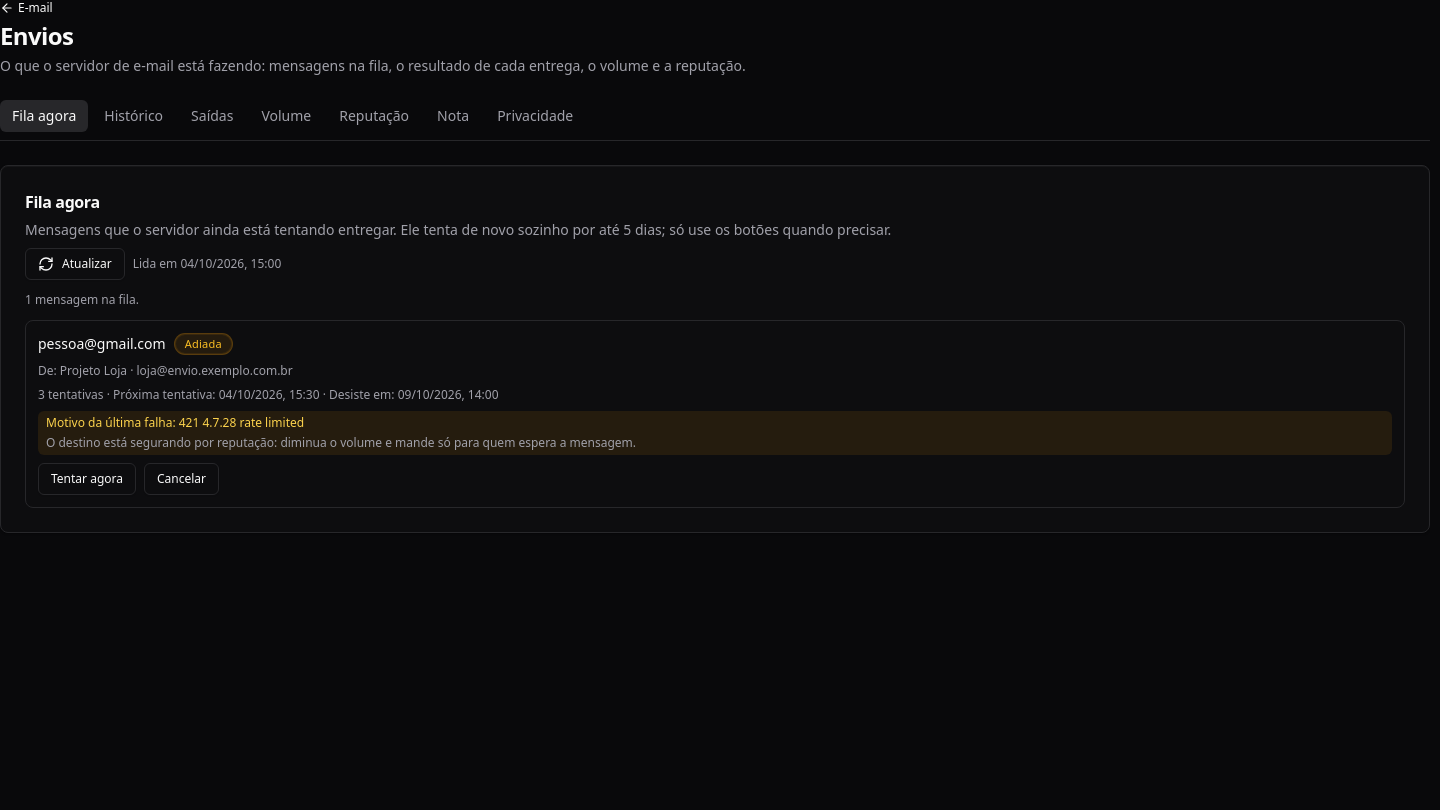
Test: Envios — volume › gráfico de 14 barras acessível, taxas com destaque e tabela
Click the tab "Volume" at (286,116), box x1=249 y1=100 x2=323 y2=132
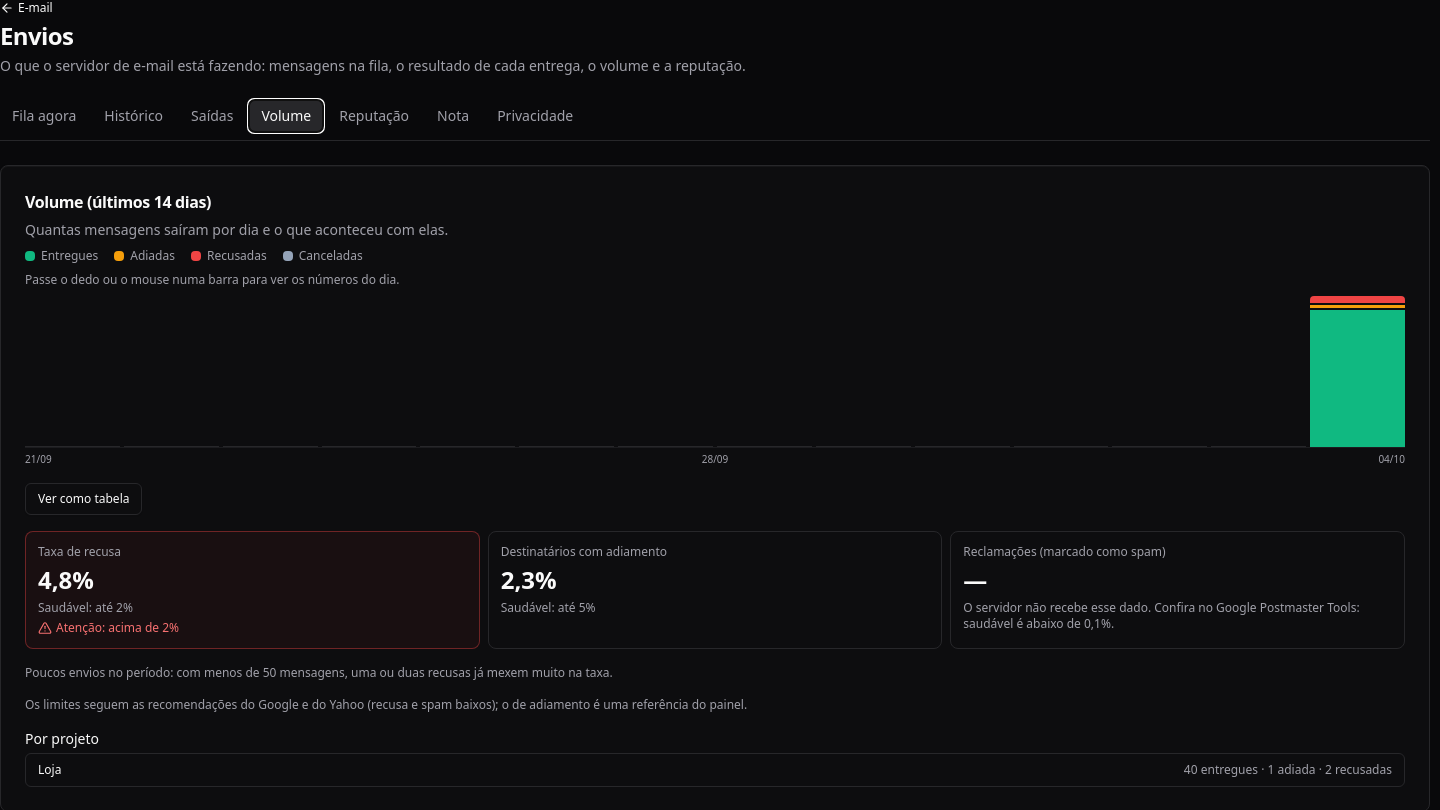
Expected: the number of elements with test id "volume-bar" is 14
Expected: the element named "04/10: 40 entregues, 2 recusadas, 1 adiada" is shown, x1=1310 y1=296 x2=1405 y2=447
Expected: the element with test id "rate-bounce" shows "4,8%", x1=38 y1=563 x2=94 y2=596
Click the button "Ver como tabela" at (84,499), box x1=25 y1=483 x2=142 y2=515
(page scrolled)
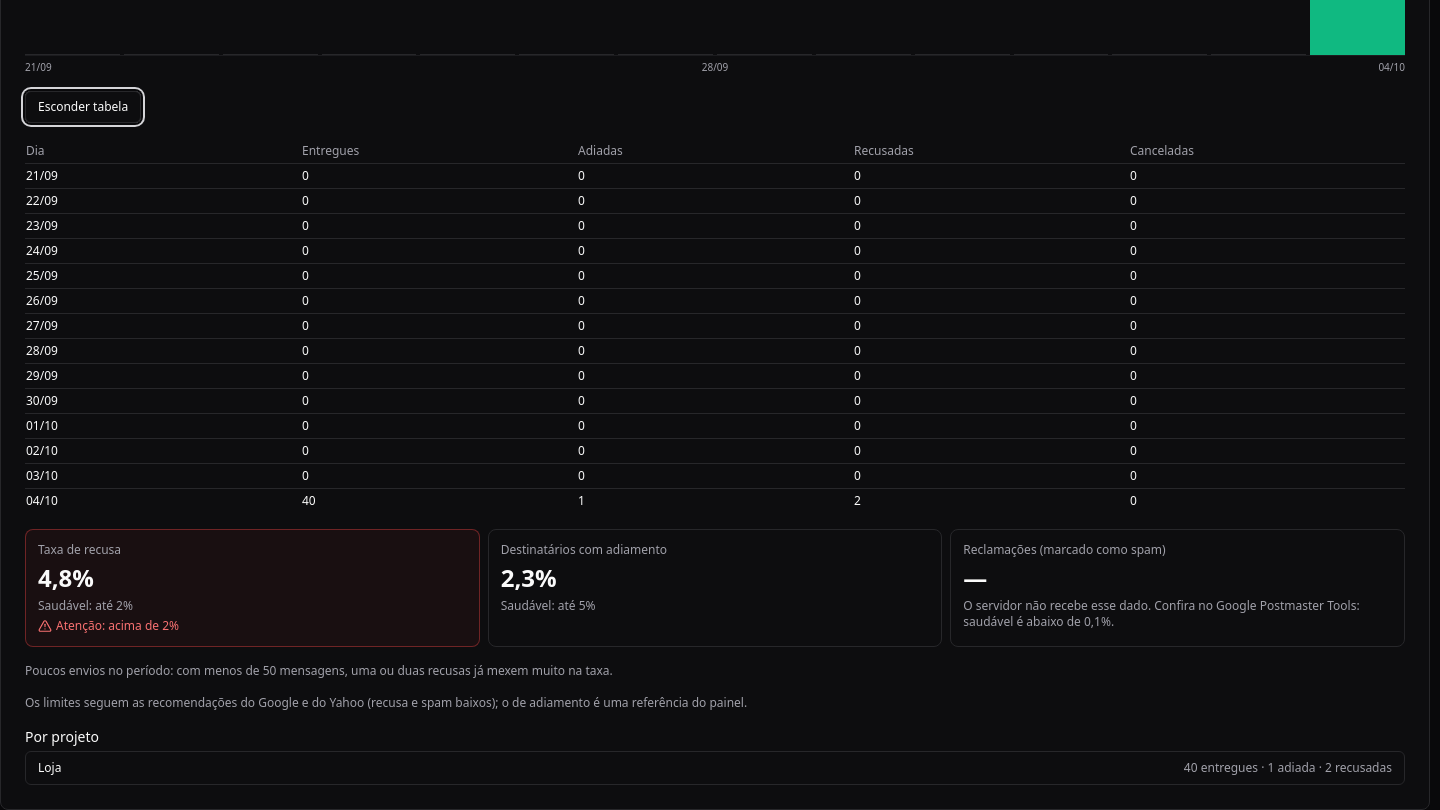
Expected: the list item with test id "project-p1" shows "Loja", x1=38 y1=759 x2=61 y2=776
Expected: the table shows "40", x1=302 y1=492 x2=316 y2=509
